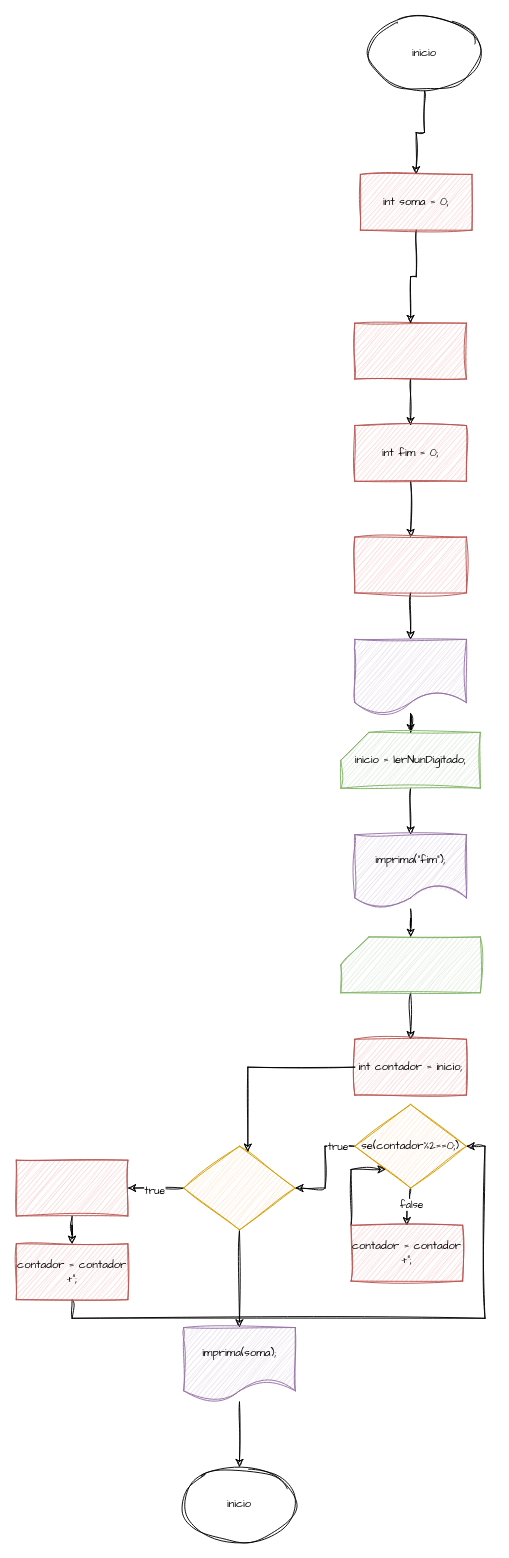
Image size: 509x1558. Some labels were removed from this diagram. The centre of each missing label's shape, as x and y in pixels:
fim = lerNunDigitado;: pixel 410 964
imprima("inicio");: pixel 410 676
int contador = 0;: pixel 410 350
int inicio = 0;: pixel 410 564
se(contador <=fim): pixel 239 1187
soma = soma +1;: pixel 71 1187
